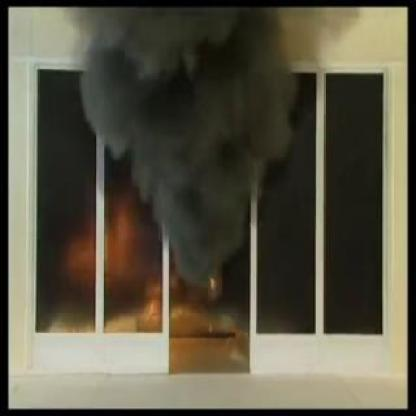Smoke: (90, 9, 304, 269)
